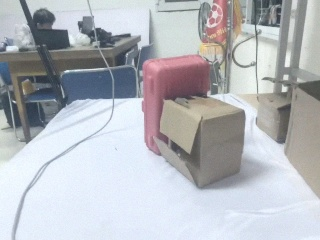box: (155, 97, 245, 187), (256, 93, 292, 143)
toy_car: (199, 1, 243, 62)
